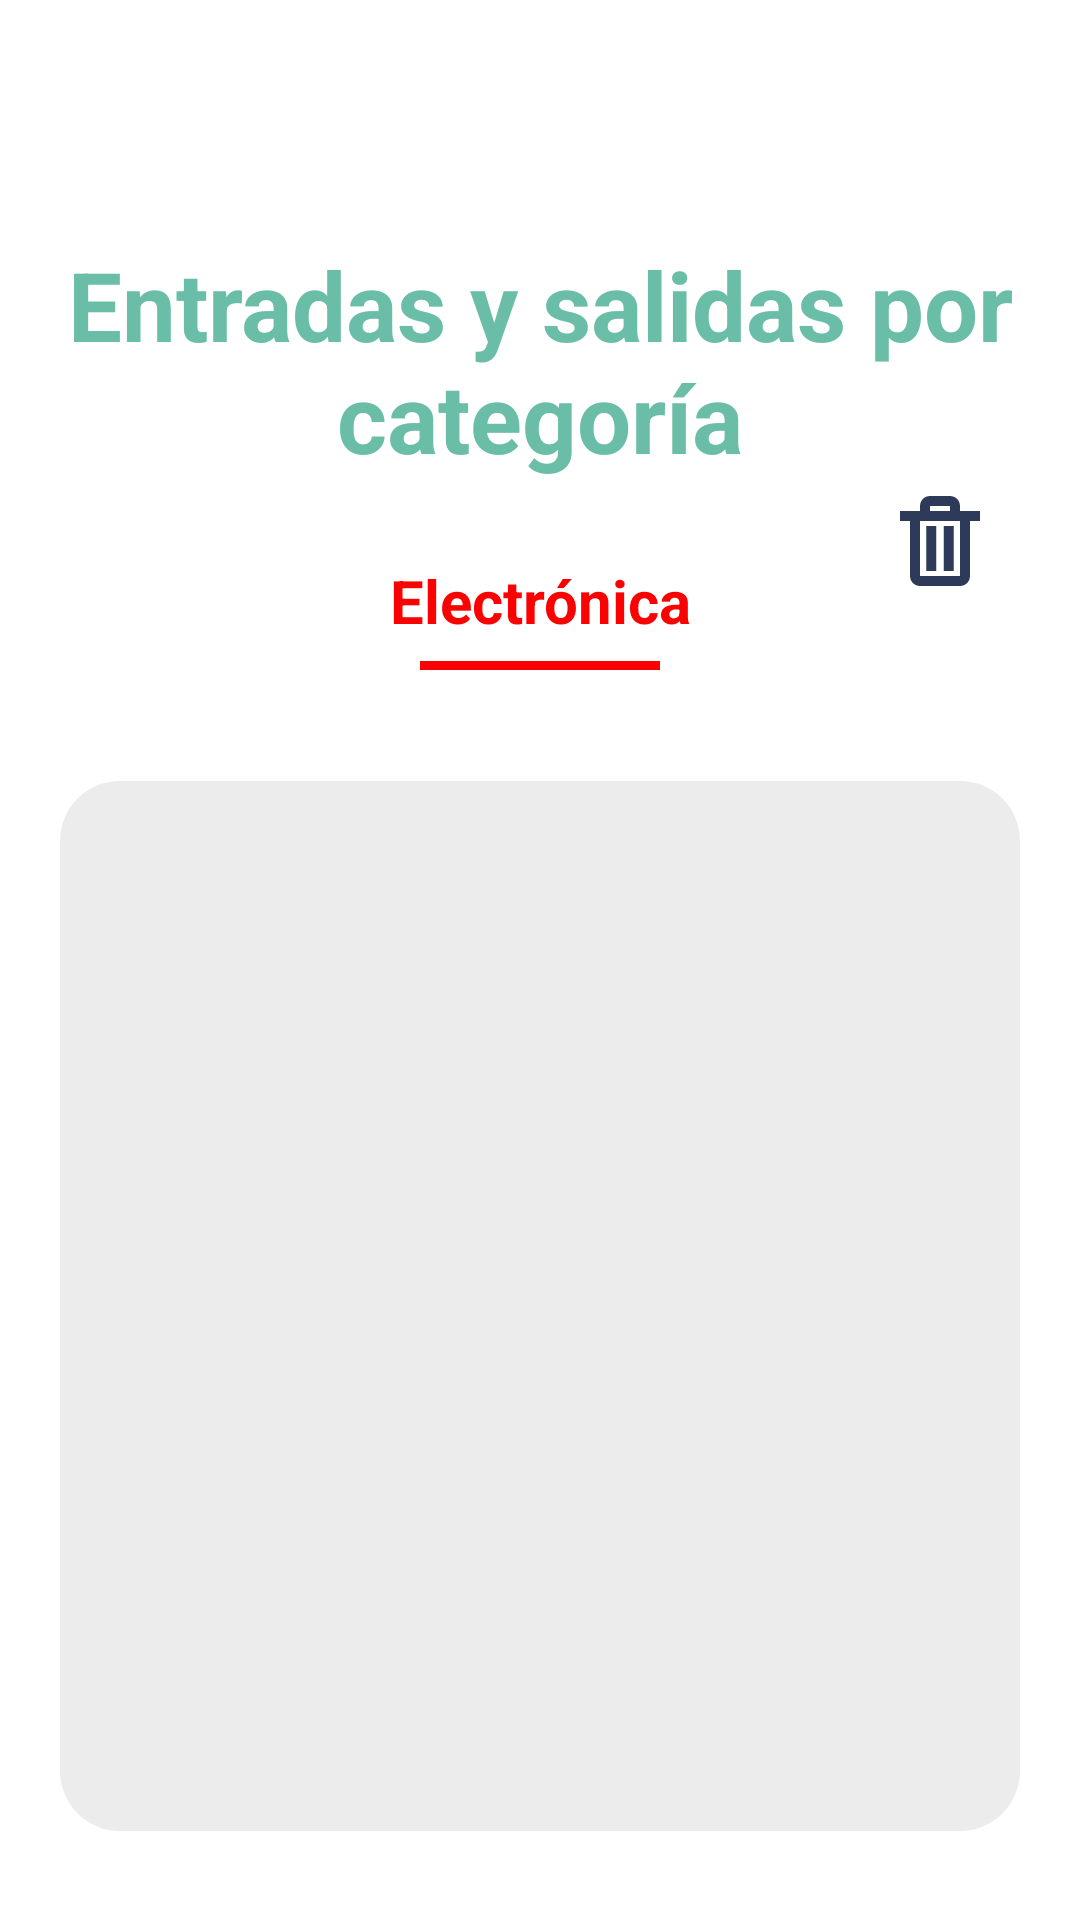

Locate icon controls on the screen. Image size 1080*1920, boxes as box(x1, y1, x2, y2).
trash full: box(900, 496, 980, 586)
